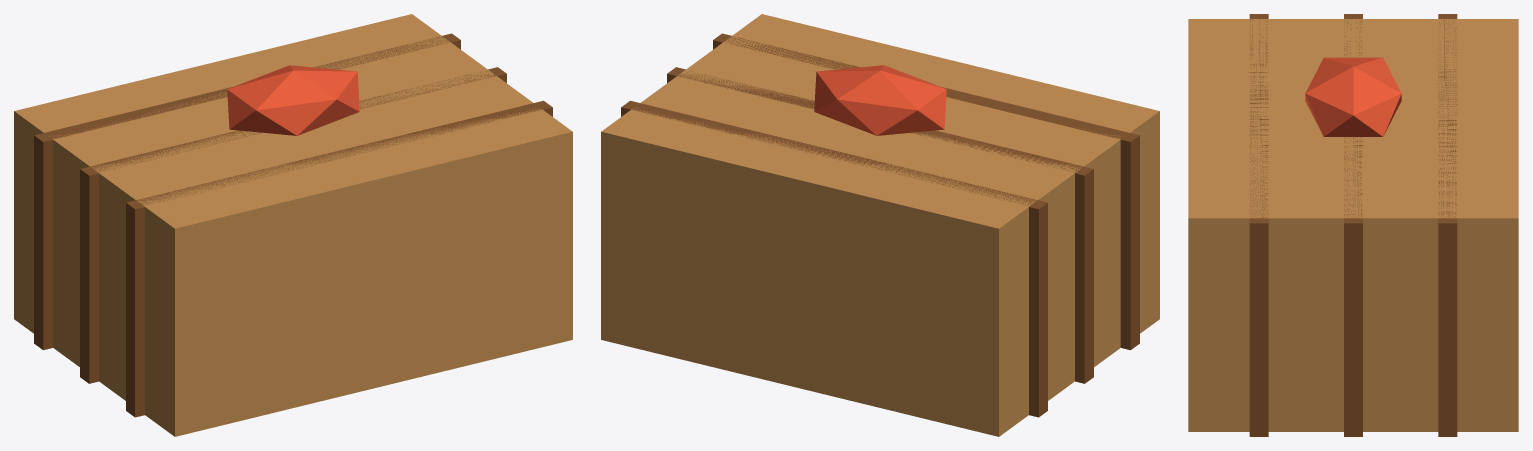
File: lobster_crate.glb
3 views of the same model, side by side, from view 1: azimuth 30°, elevation 25°; view 2: azimuth 150°, elevation 25°; view 3: azimuth 270°, elevation 25° (orthographic). The views are drawn at different scales.
Parts seen in each view (by area): view 1: lobster_crate; view 2: lobster_crate; view 3: lobster_crate.
Boxes of the visible parts, left/top/right/bottom form: lobster_crate: left=14, top=14, right=572, bottom=436; lobster_crate: left=601, top=14, right=1159, bottom=436; lobster_crate: left=1188, top=14, right=1518, bottom=436.
Size of the model in its own units: 1.05 by 0.622 by 0.7.
